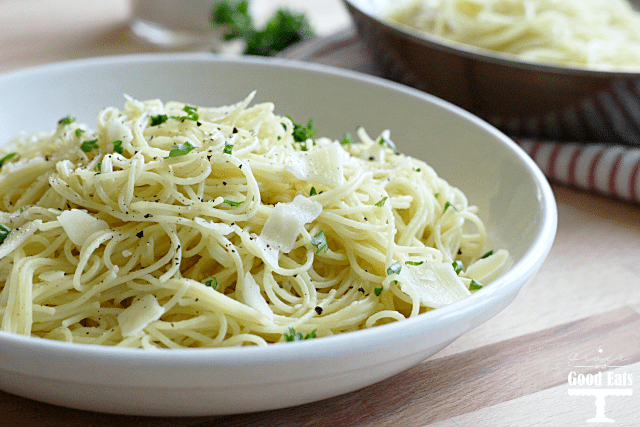plain spaghetti: (1, 121, 455, 346)
